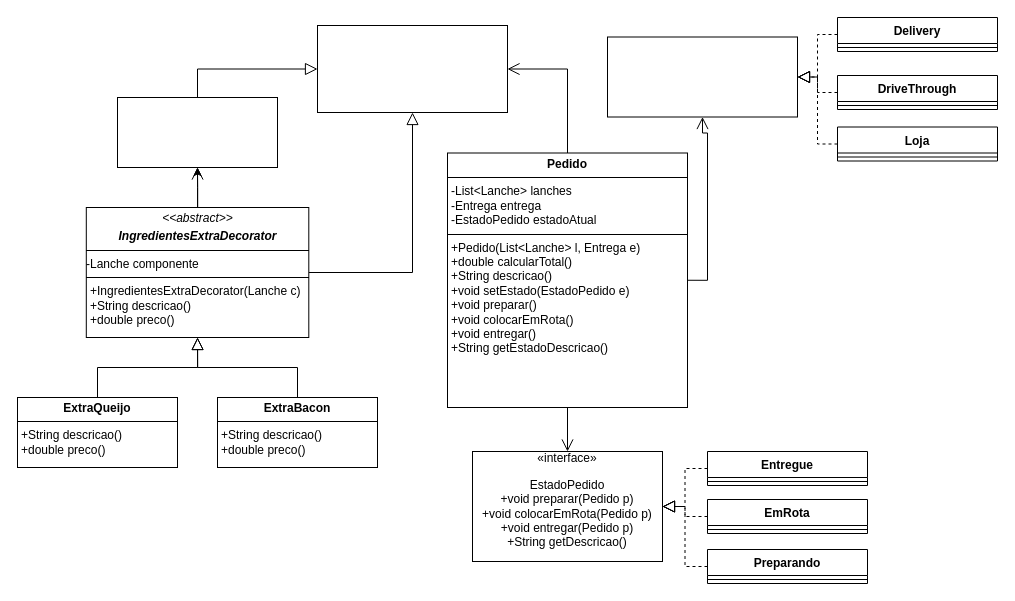
Image size: 1015x601. Some labels were removed from this diagram. Each missing label, with the centre of its shape:
"<<Interface>> Entrega +void processar(Pedido p)" goes at (702,76).
"<<Interface>> Lanche +String descricao() +double preco()" goes at (412,68).
"Hamburguer +String descricao() +double preco()" goes at (197,132).
